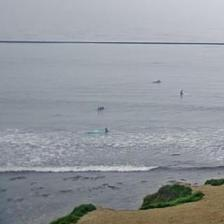surfer: (152, 79, 162, 83), (98, 106, 104, 110), (105, 127, 109, 133), (180, 90, 183, 96)
